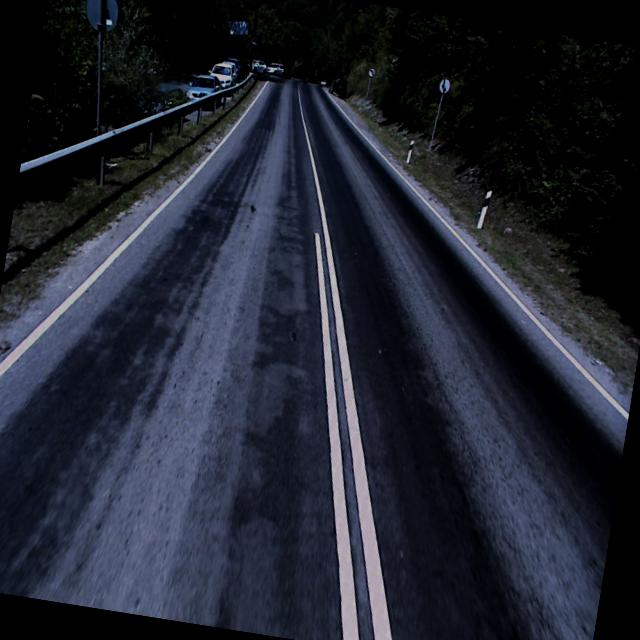road: (0, 76, 631, 640)
